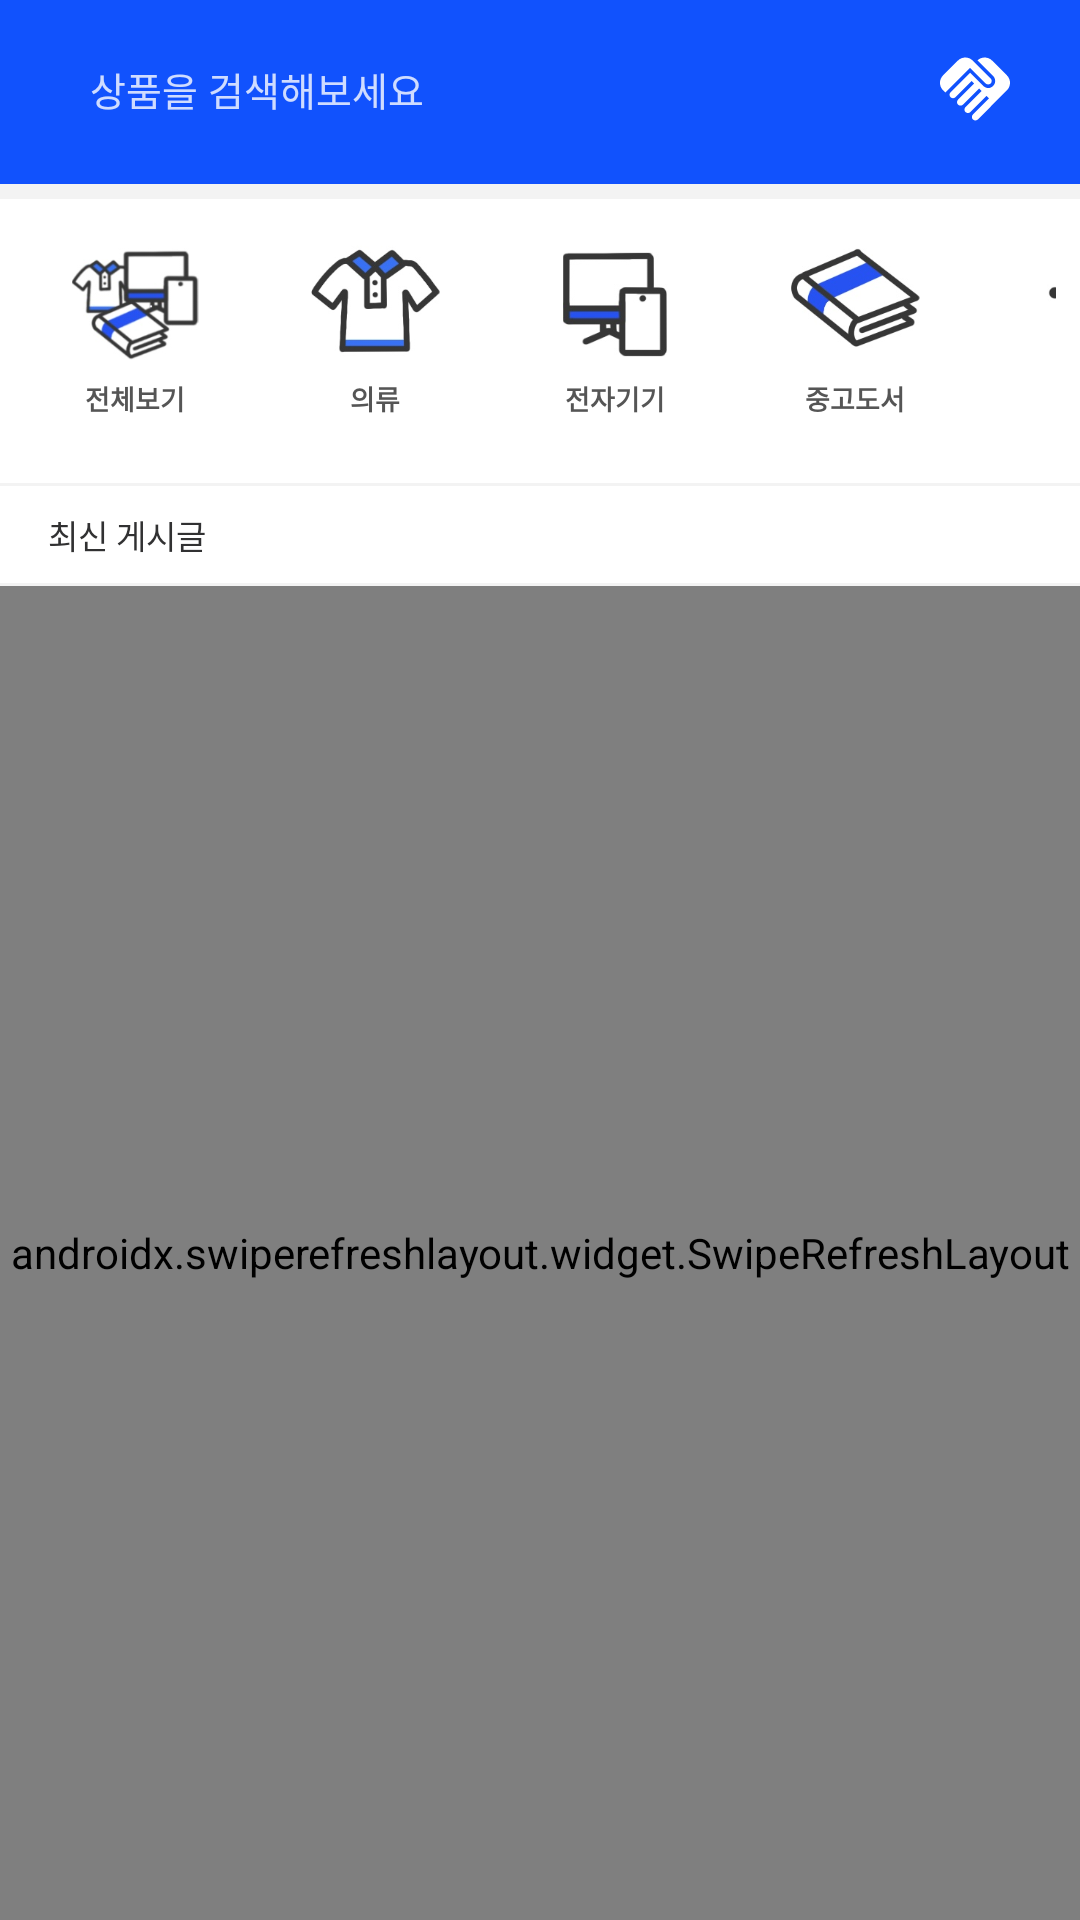

Screen size 1080x1920. Icon name, then its box in pixels as bbox(x1, y1, x2, y2):
promise: bbox(940, 57, 1010, 121)
